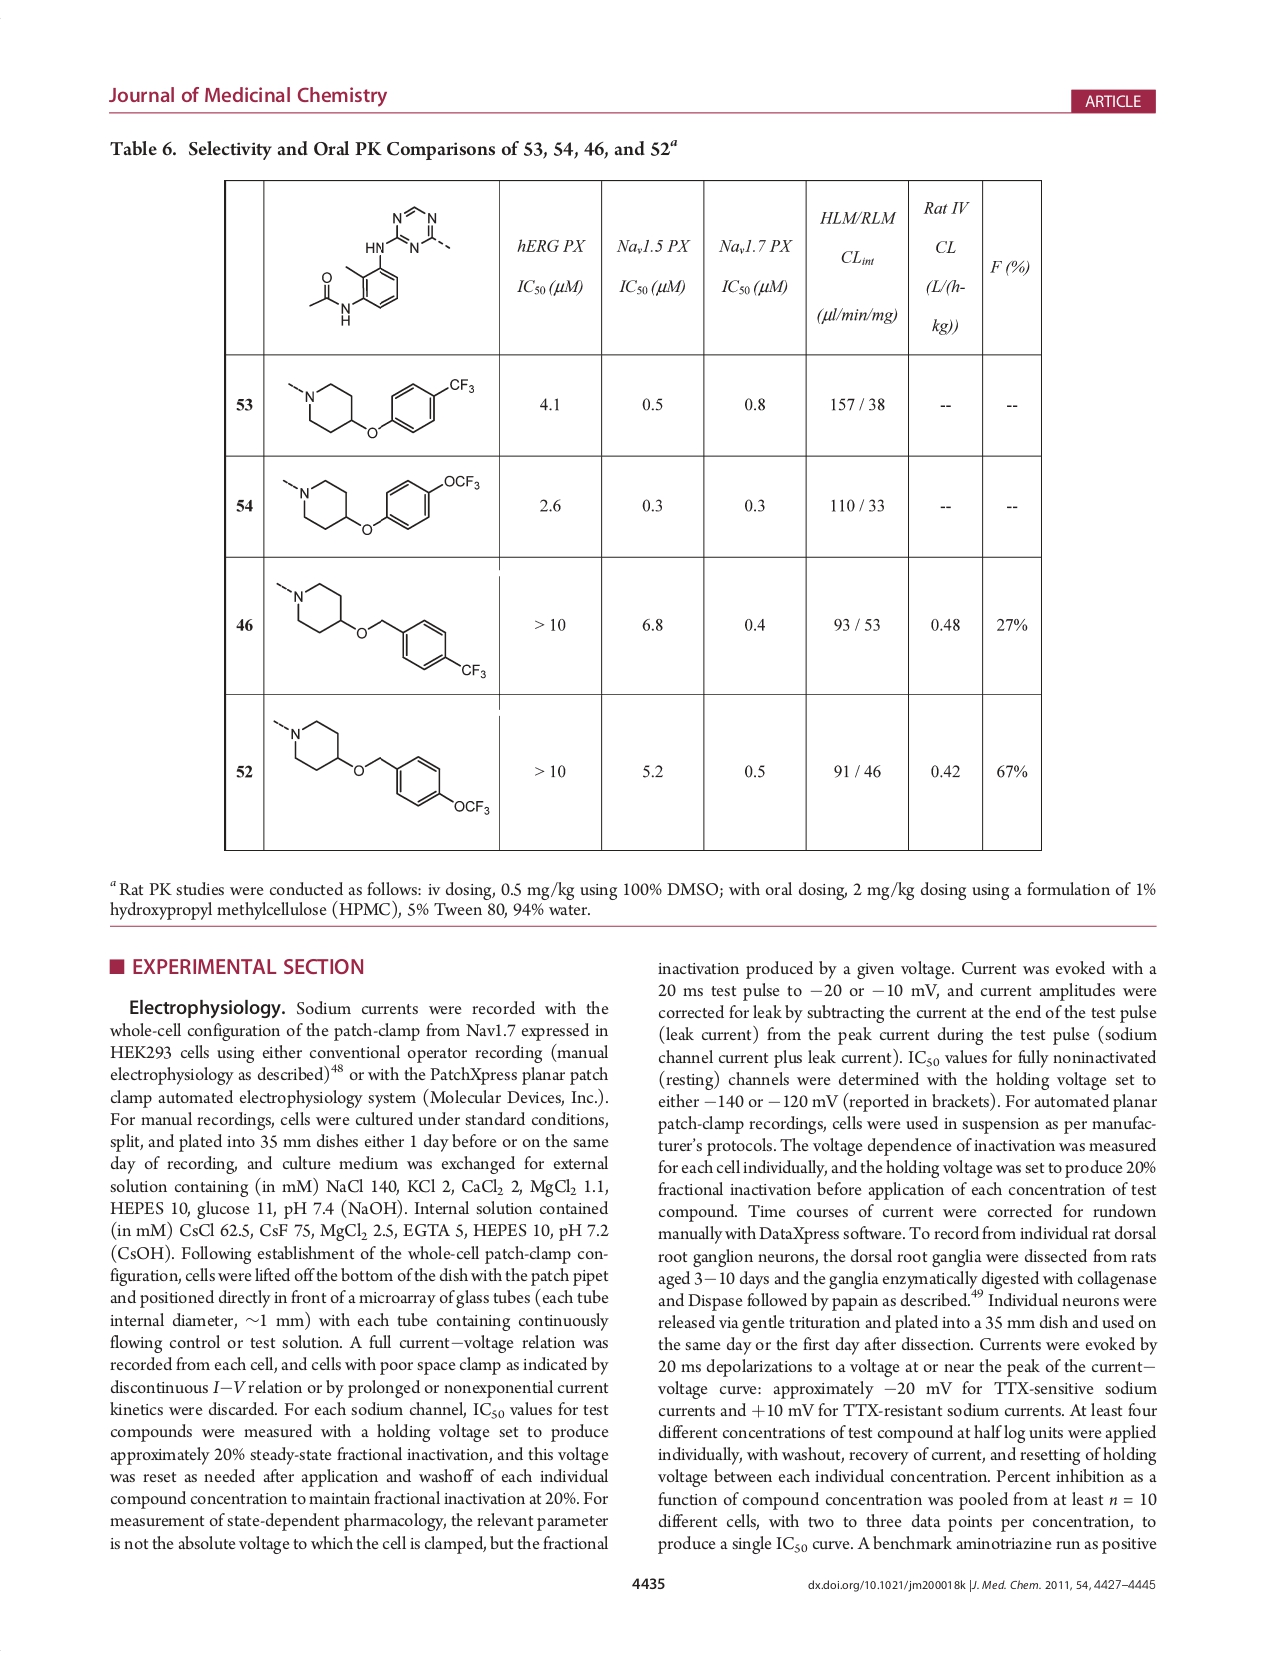exist_molecular: (271, 575, 493, 686), (269, 714, 493, 825), (303, 199, 456, 331), (282, 370, 477, 446), (281, 469, 481, 539)
